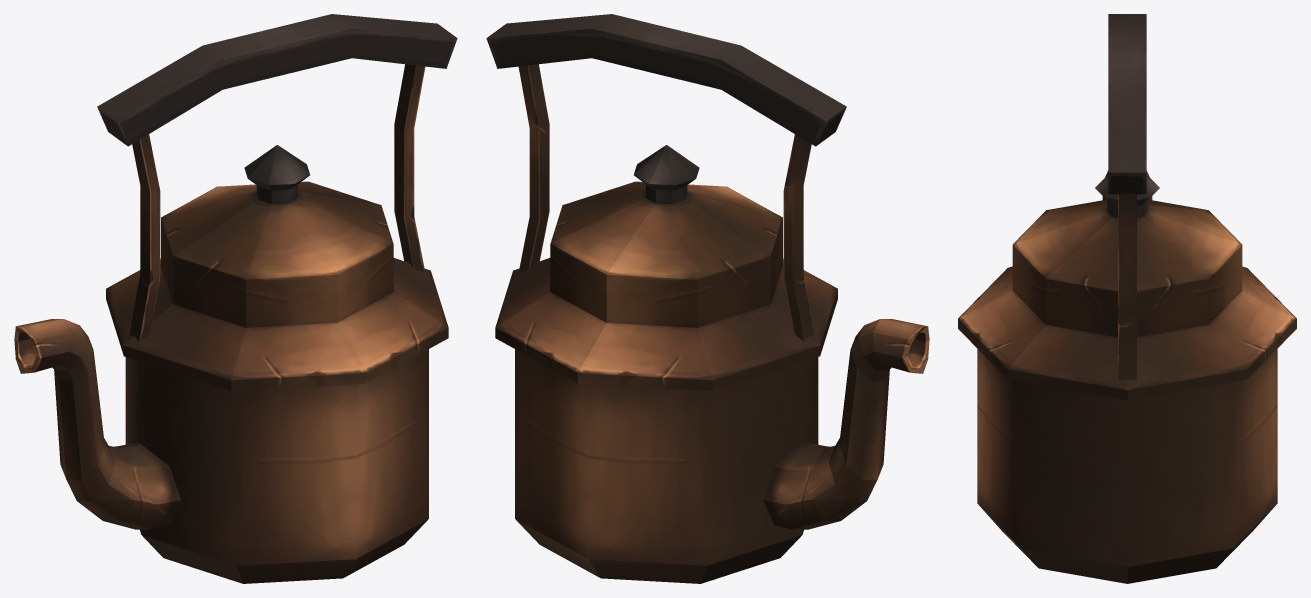
File: 91_kettle.FBX
3 renders of one model, left to right at view 1: azimuth 30°, elevation 25°; view 2: azimuth 150°, elevation 25°; view 3: azimuth 270°, elevation 25°, orthographic. The views are drawn at different scales.
Bounding box in the file's own units: 52.41 × 58.74 × 37.72.
